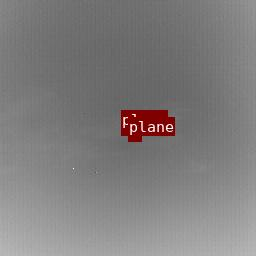plane: (121, 129, 136, 135), (128, 136, 141, 141)
